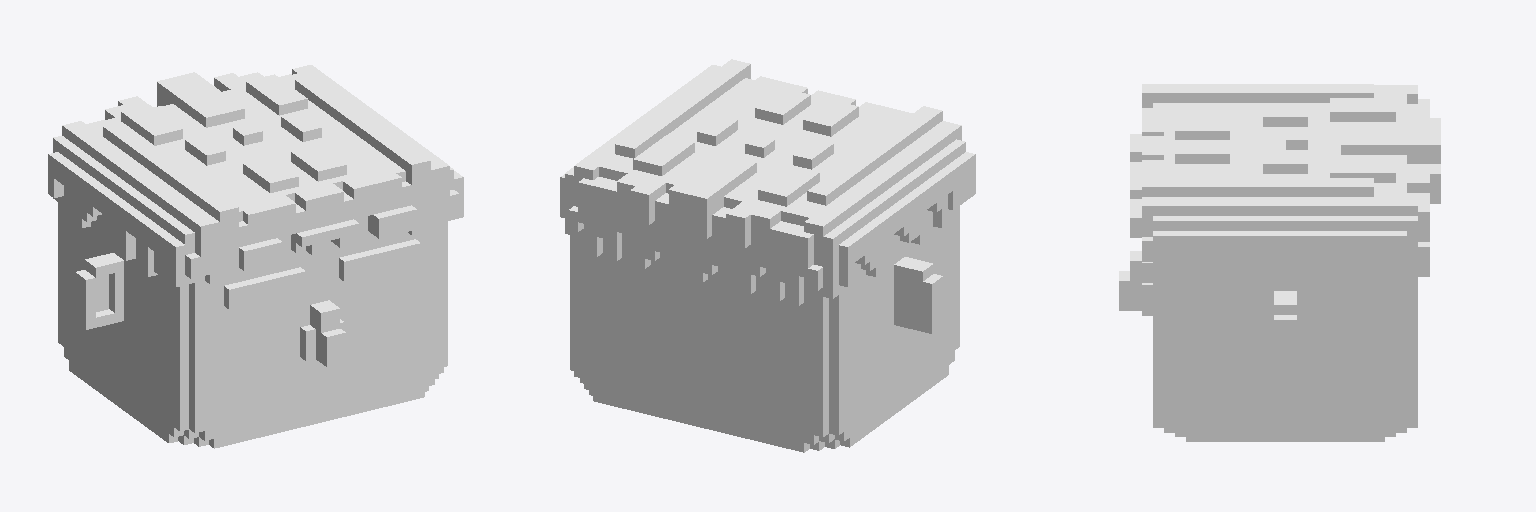
The model's file is Guard3_Head.obj.
3 views of the same model, side by side, from view 1: azimuth 30°, elevation 25°; view 2: azimuth 150°, elevation 25°; view 3: azimuth 270°, elevation 25° (orthographic).
Bounding box in the file's own units: 36 × 24 × 29.